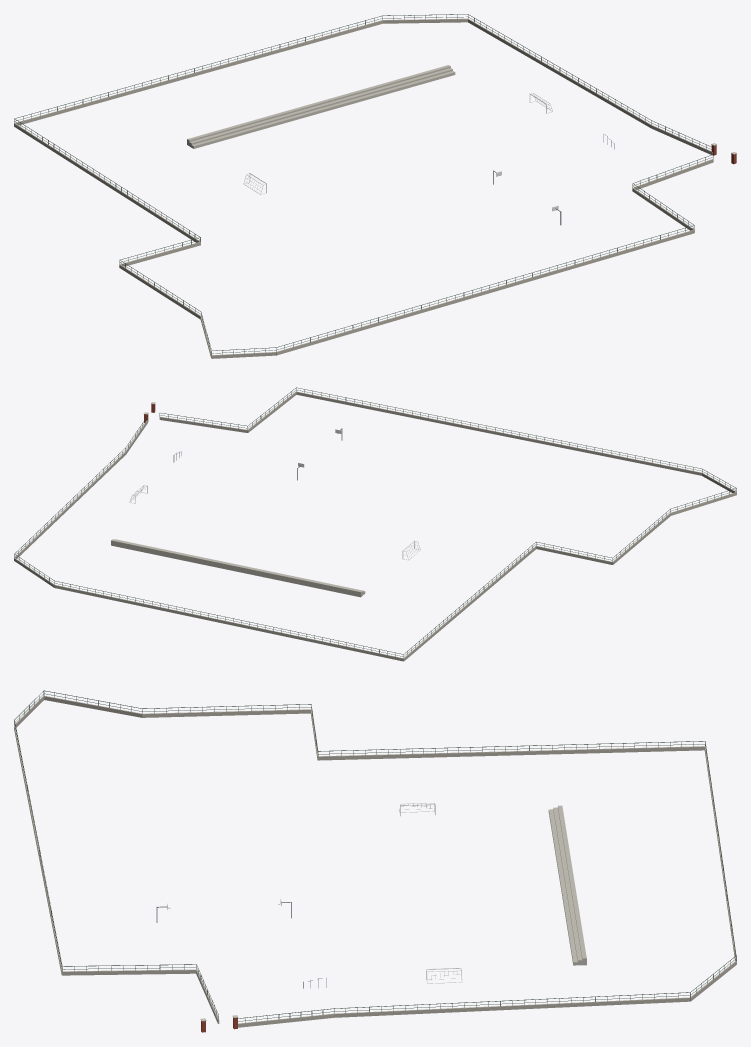
The picture shows the model from 3 angles, top to bottom: view 1: azimuth 30°, elevation 25°; view 2: azimuth 150°, elevation 25°; view 3: azimuth 270°, elevation 25°; orthographic projection. The views are drawn at different scales.
Visible parts, largest first — view 1: site-wall-concrete, site-fence, site-stand-concrete; view 2: site-wall-concrete, site-fence, site-stand-concrete; view 3: site-wall-concrete, site-fence, site-stand-concrete.
Part boxes in pixels (<box>): site-wall-concrete: <box>14,18,713,358</box>; site-fence: <box>14,14,713,355</box>; site-stand-concrete: <box>187,65,455,148</box>; site-wall-concrete: <box>14,391,736,661</box>; site-fence: <box>14,387,736,658</box>; site-stand-concrete: <box>111,539,365,597</box>; site-wall-concrete: <box>14,696,736,1027</box>; site-fence: <box>14,690,736,1022</box>; site-stand-concrete: <box>548,805,586,965</box>.
Size of the model in its own units: 166 by 4.25 by 152.
